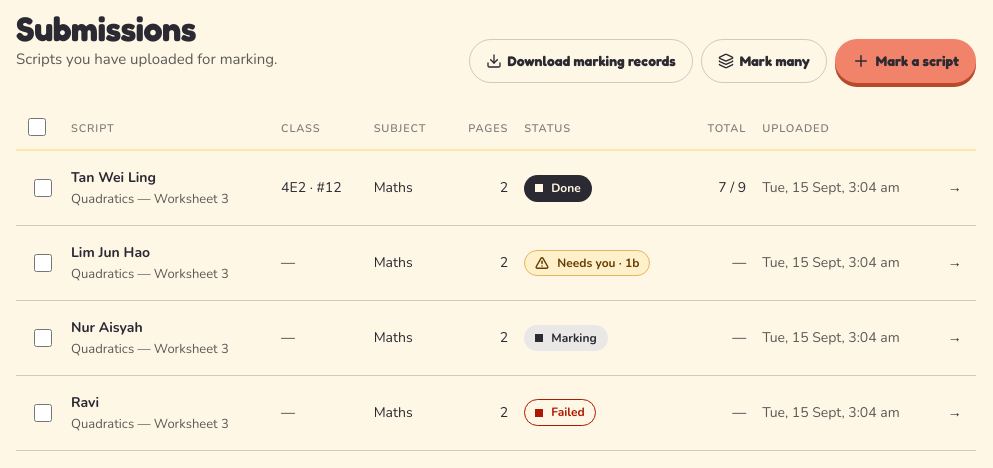
Test: Submissions — download marking records › disables the button when only unmarked scripts are ticked
Click the checkbox named "Select Ravi" at (43, 413), box x1=34 y1=404 x2=52 y2=422
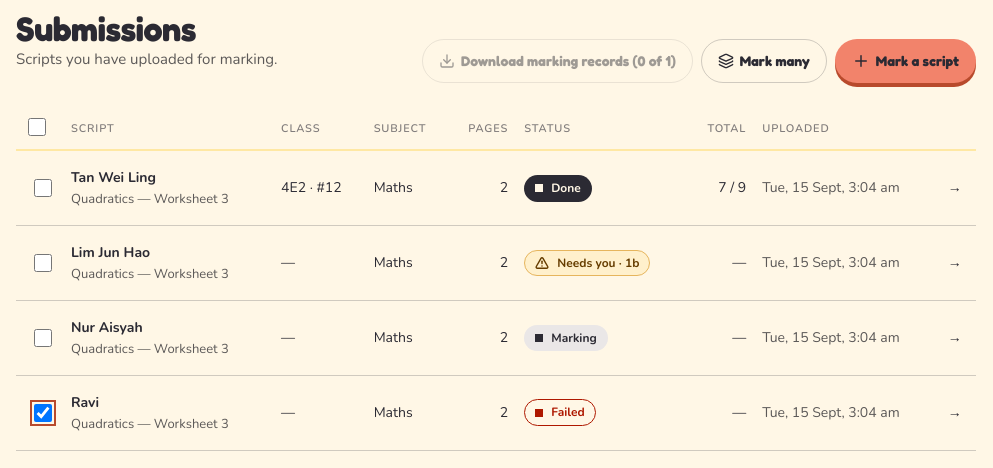
Expected: the text "Quadratics — Worksheet 3" is shown 4 times, x1=71 y1=190 x2=229 y2=208; x1=71 y1=265 x2=229 y2=283; x1=71 y1=340 x2=229 y2=358; x1=71 y1=414 x2=229 y2=432
Expected: the button "Download marking records (0 of 1)" is disabled, x1=422 y1=39 x2=693 y2=83
